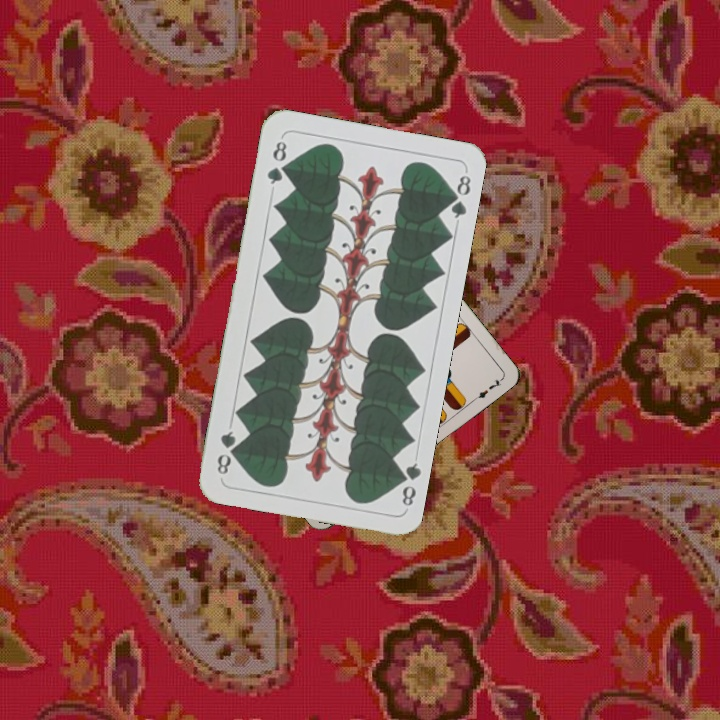G8: (392, 459, 423, 509), (263, 137, 289, 187)
